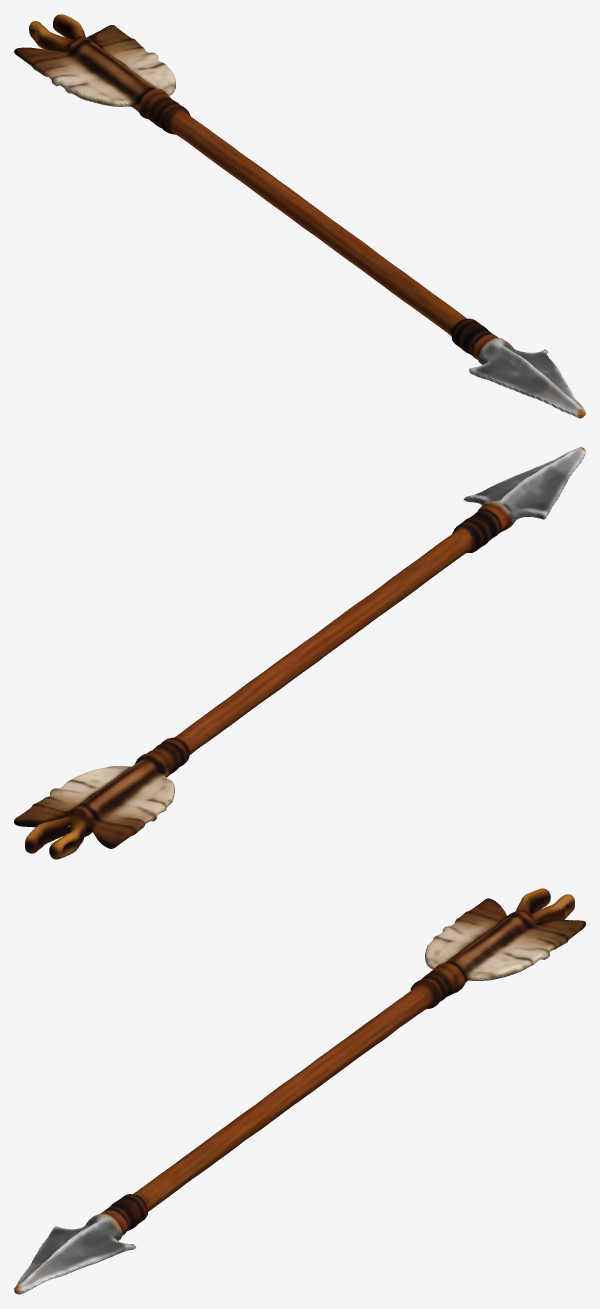
File: arros.glb
The picture shows the model from 3 angles, top to bottom: view 1: azimuth 30°, elevation 25°; view 2: azimuth 150°, elevation 25°; view 3: azimuth 330°, elevation 25°; orthographic projection.
Visible parts, largest first — view 1: geometry_0; view 2: geometry_0; view 3: geometry_0.
Part boxes in pixels (<box>): geometry_0: <box>14,14,585,418</box>; geometry_0: <box>14,447,585,859</box>; geometry_0: <box>14,888,585,1294</box>.
Size of the model in its own units: 0.1121 by 0.031 by 1.
1 material, 1 textured.
